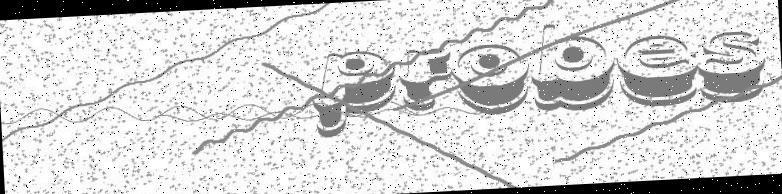b: (526, 19, 617, 118)
e: (615, 27, 699, 110)
o: (449, 39, 534, 119)
p: (310, 46, 401, 143)
r: (397, 45, 455, 115)
s: (697, 26, 767, 102)
